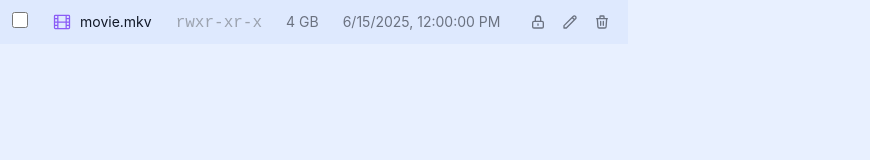
Scenario: FileRow › interactions › enters rename mode when rename button is clicked
Click the button titled "Rename" at coordinates (570, 22), box [556,8,584,36]
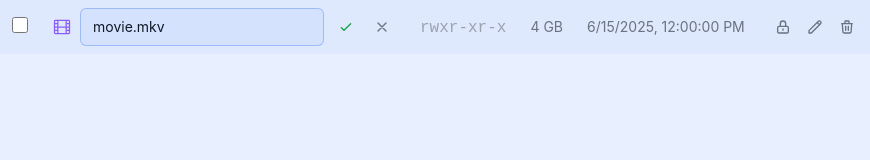
Expected: the field showing "movie.mkv" is shown, [80,8,324,46]
